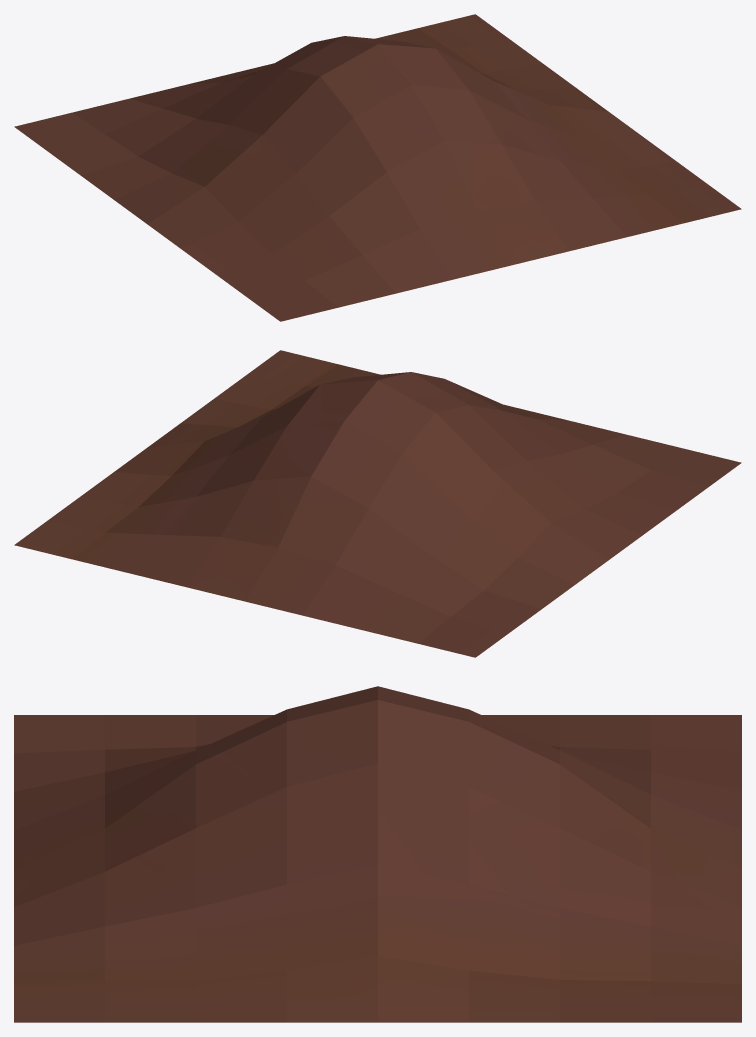
File: butte.fbx
3 views of the same model, one above another, from view 1: azimuth 30°, elevation 25°; view 2: azimuth 150°, elevation 25°; view 3: azimuth 270°, elevation 25° (orthographic). The views are drawn at different scales.
Parts seen in each view (by area): view 1: butte; view 2: butte; view 3: butte.
Part boxes in pixels (left/top/right/bottom): butte: left=14, top=14, right=741, bottom=321; butte: left=14, top=350, right=741, bottom=657; butte: left=14, top=686, right=741, bottom=1022.
Size of the model in its own units: 200 by 51.24 by 200.
